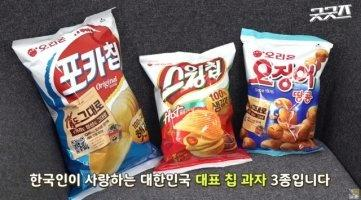snack: (10, 6, 165, 173), (139, 40, 253, 174), (237, 25, 336, 158)
